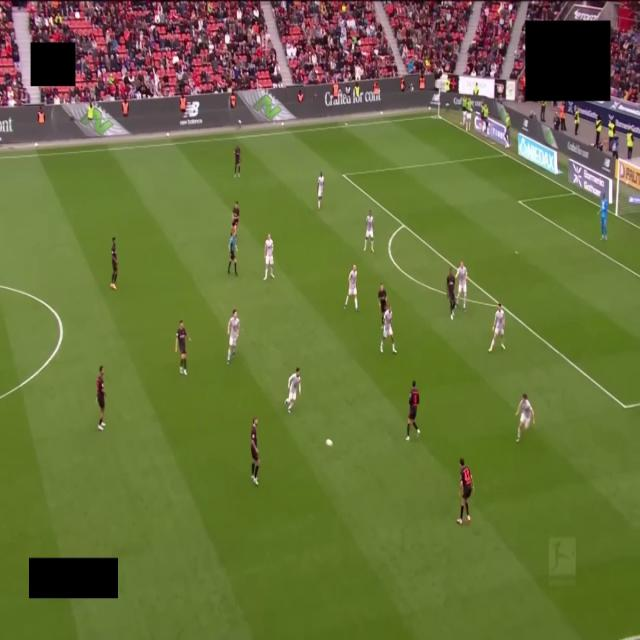ball: (326, 440, 332, 447)
player: (457, 458, 473, 525), (516, 394, 534, 442), (406, 381, 420, 440), (175, 320, 190, 375), (380, 306, 396, 353), (489, 304, 505, 351), (285, 368, 301, 412), (96, 365, 106, 431), (227, 310, 239, 364), (345, 264, 357, 311), (251, 417, 259, 485), (456, 262, 467, 311), (264, 234, 274, 280), (364, 210, 374, 252), (447, 269, 455, 319), (378, 284, 387, 327), (600, 194, 608, 240), (110, 237, 117, 289), (234, 145, 241, 178), (318, 172, 324, 209), (232, 201, 239, 231)
referee: (228, 228, 237, 275)
